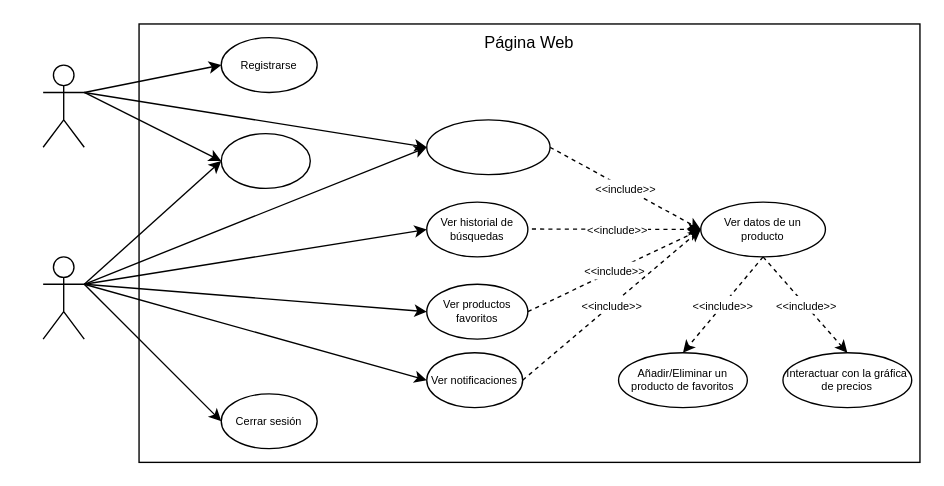
The diagram is 944 pixels wide and 486 high, and some of its shapes have lost their labels. The centre of each missing label's shape, as x and y in pixels:
"Buscar un producto por nombre o código de barras" goes at point 487,147.
"Iniciar sesión" goes at point 265,160.
"Usuario Anónimo" goes at point 63,105.
"Usuario Registrado" goes at point 63,297.
